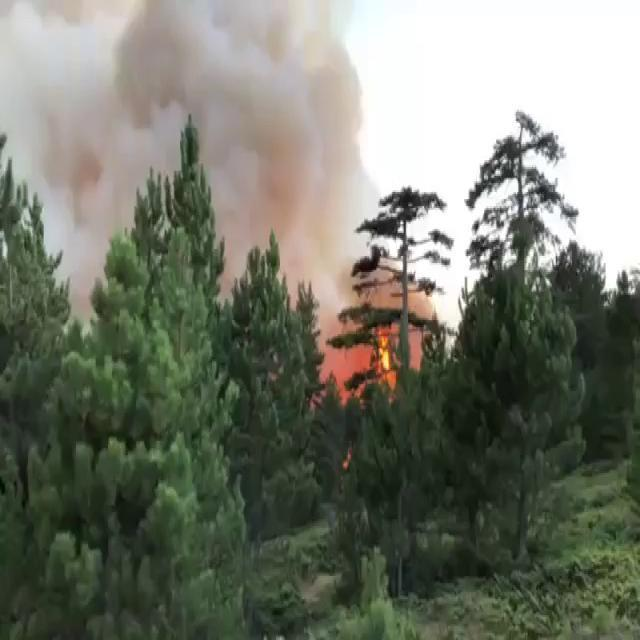Fire: (324, 239, 431, 424)
Smoke: (10, 14, 274, 176), (214, 46, 359, 233)
